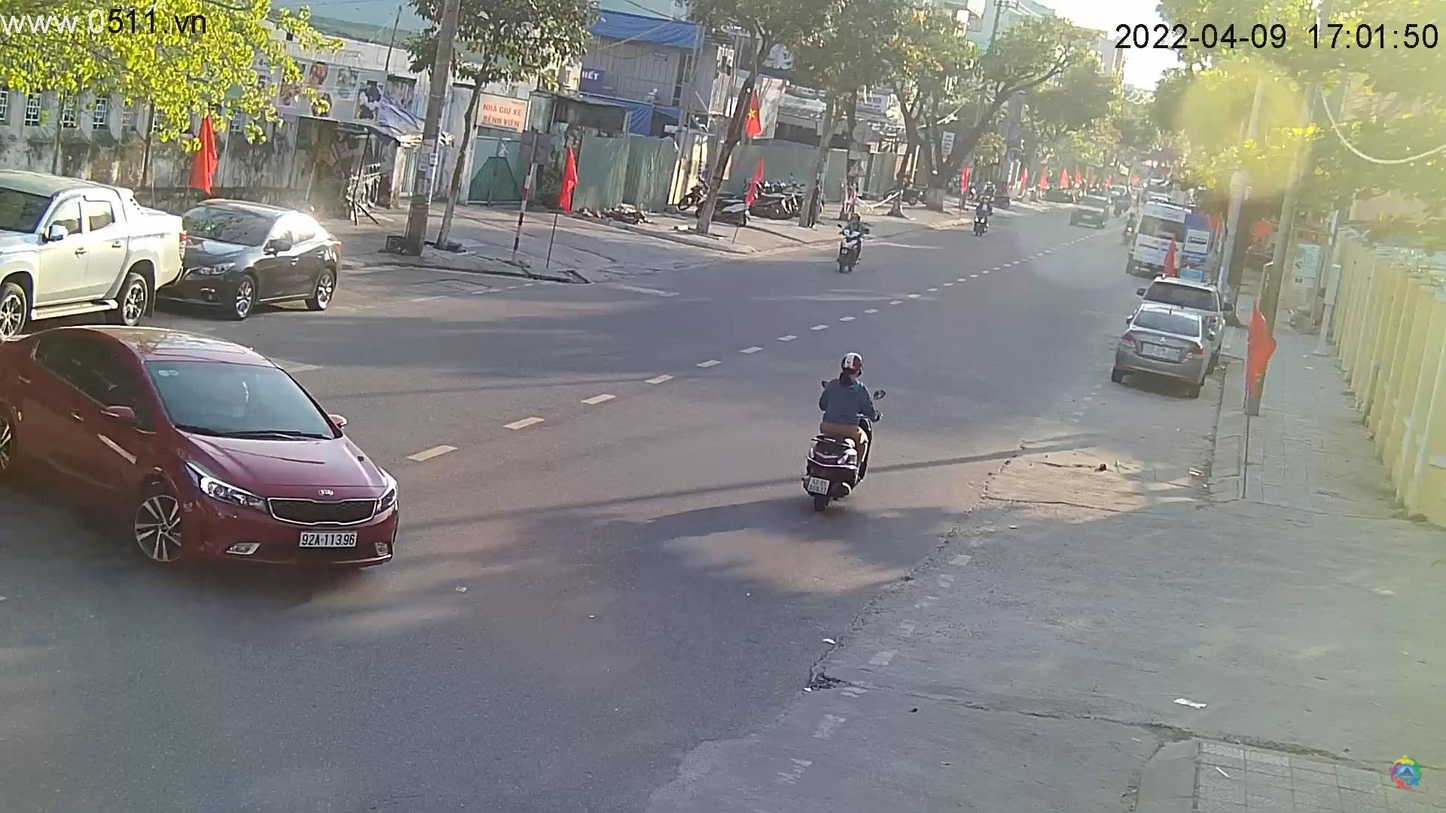car: (1, 322, 411, 569), (2, 166, 188, 343), (166, 199, 352, 321)
motorbike: (837, 221, 869, 273)
